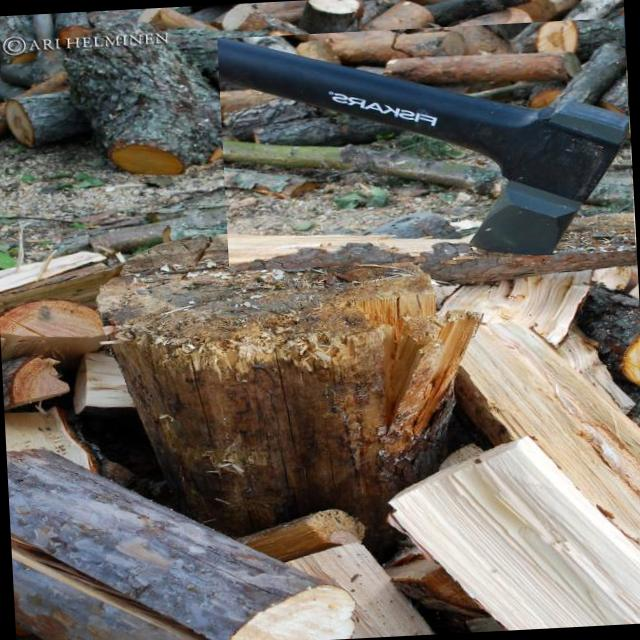Axe: (217, 39, 630, 255)
